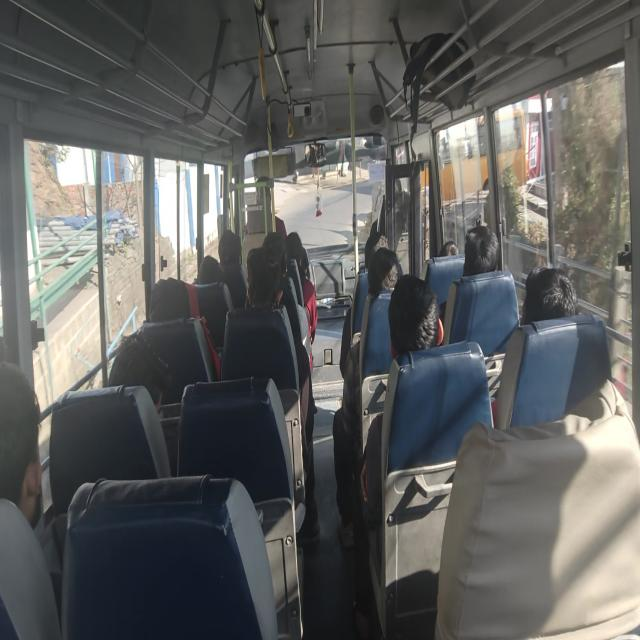person: (434, 378, 639, 638), (353, 273, 444, 636), (491, 264, 630, 430), (243, 246, 320, 538), (332, 243, 402, 547), (0, 360, 62, 638), (339, 230, 389, 378), (0, 360, 43, 530), (108, 331, 172, 414), (388, 273, 443, 359), (284, 231, 318, 343), (520, 264, 579, 325), (218, 229, 248, 309), (462, 224, 500, 276), (198, 254, 222, 284), (438, 240, 459, 256)
